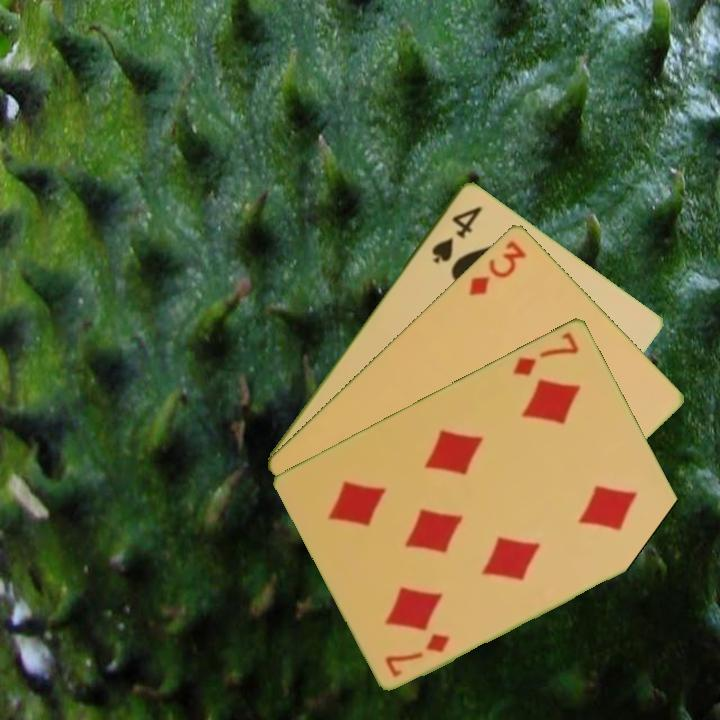3d: (465, 236, 529, 299)
4s: (428, 202, 485, 266)
7d: (509, 328, 582, 379), (381, 629, 453, 680)
